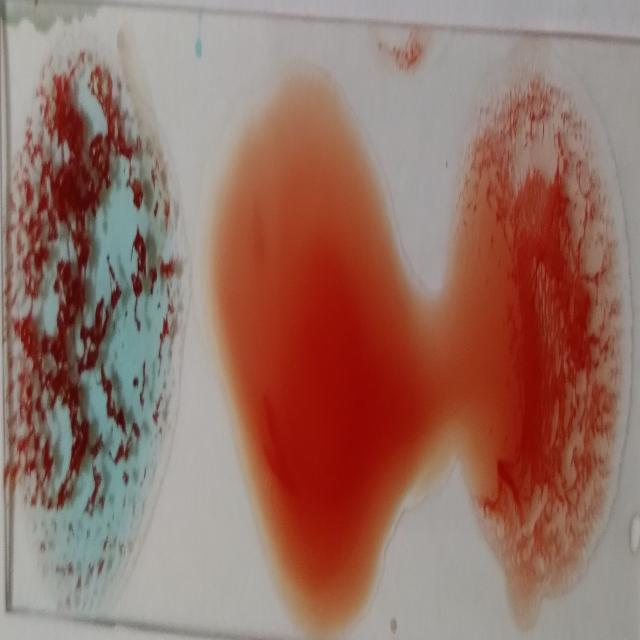A: (12, 44, 168, 602)
D: (506, 83, 612, 587)
